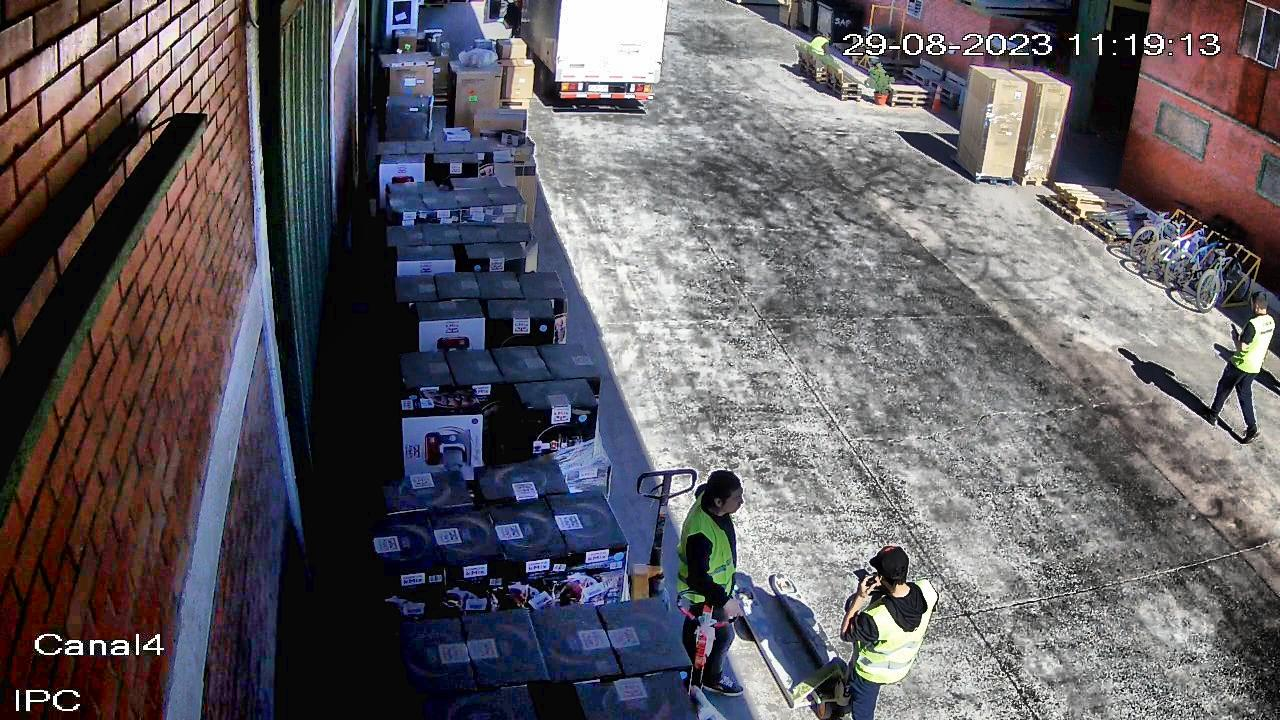con-chaleco: (842, 577, 943, 691), (669, 494, 745, 612), (1225, 314, 1278, 375), (803, 35, 832, 58)
persona: (650, 462, 768, 720), (820, 536, 951, 720), (1192, 284, 1280, 452), (803, 30, 836, 79)
sin-casco: (865, 543, 918, 594), (697, 470, 743, 520), (1241, 289, 1274, 316), (821, 30, 833, 41)
